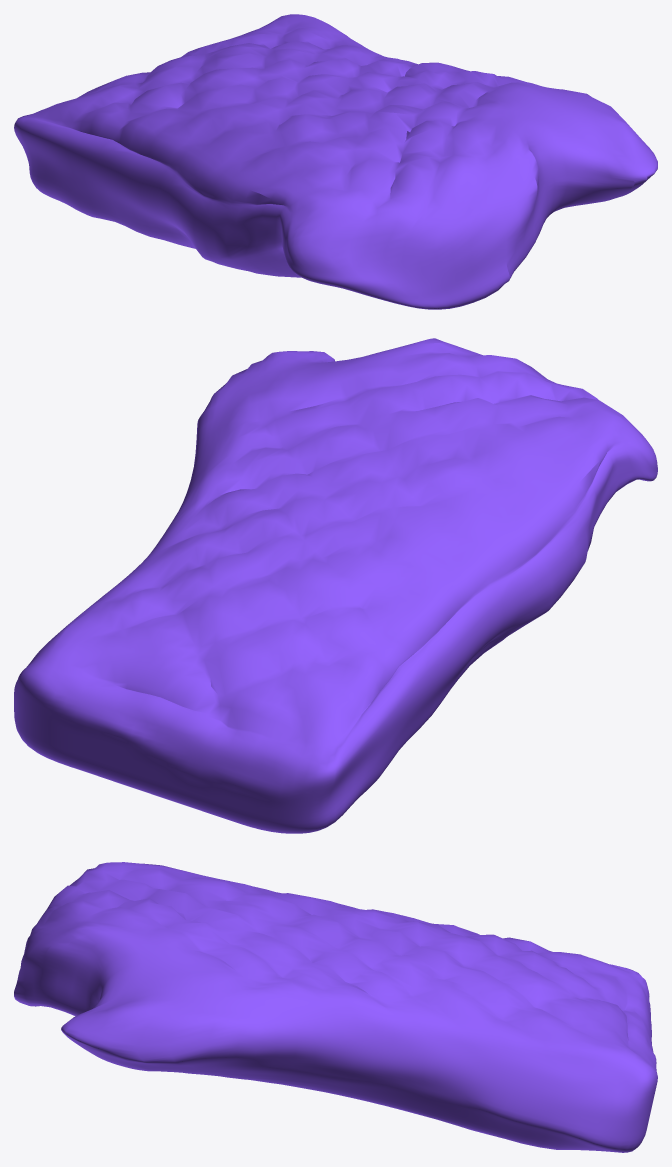
The model's file is mitten_updated.fbx.
3 views of the same model, one above another, from view 1: azimuth 30°, elevation 25°; view 2: azimuth 150°, elevation 25°; view 3: azimuth 270°, elevation 25° (orthographic). The views are drawn at different scales.
Parts seen in each view (by area): view 1: Cube; view 2: Cube; view 3: Cube.
Part boxes in pixels (<box>): Cube: <box>14,14,657,309</box>; Cube: <box>14,338,657,833</box>; Cube: <box>14,862,657,1152</box>.
Size of the model in its own units: 151 by 88.56 by 243.
